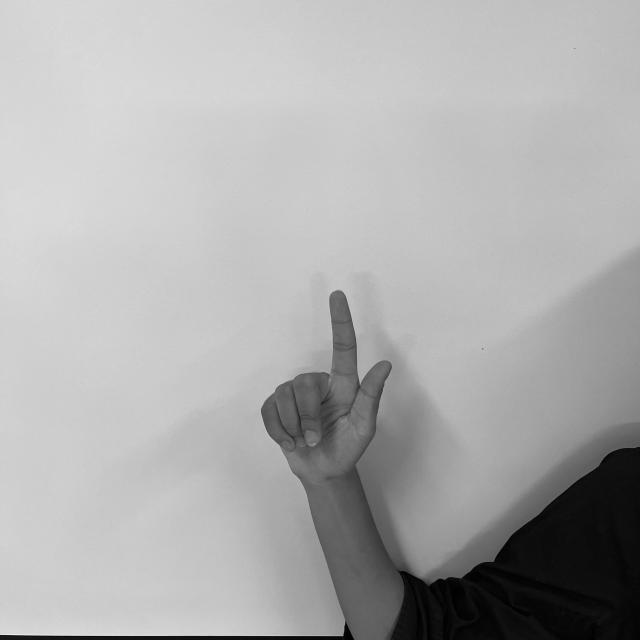Letra G: (256, 286, 398, 480)
